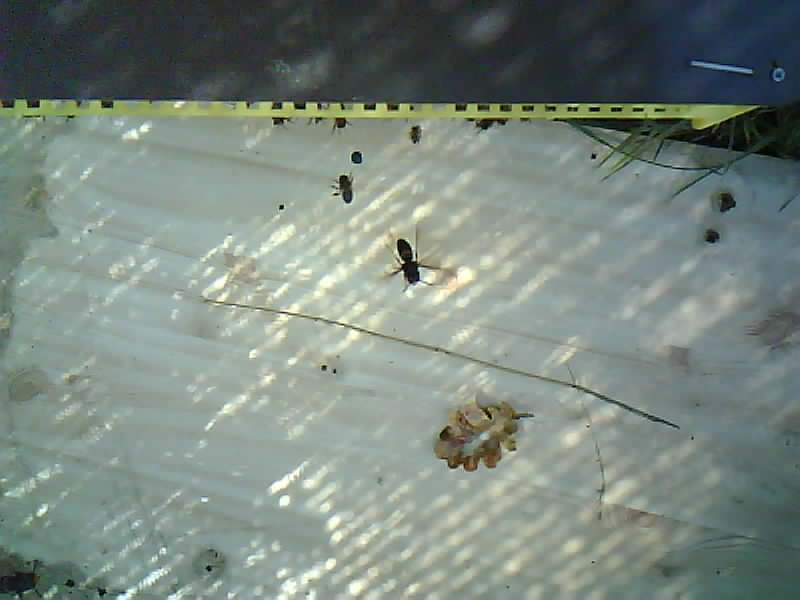bee: (336, 175, 356, 206), (406, 118, 425, 145)
hornet: (387, 232, 433, 290)
